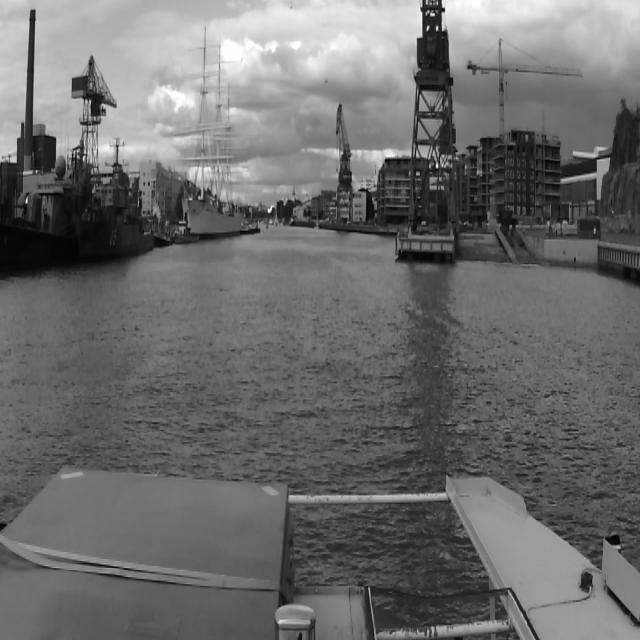ship: (176, 29, 246, 239), (0, 142, 79, 273), (77, 137, 155, 263), (152, 214, 172, 248), (173, 218, 201, 242), (241, 222, 261, 236), (273, 202, 279, 226), (313, 213, 319, 231), (289, 216, 295, 228), (265, 223, 269, 229)
